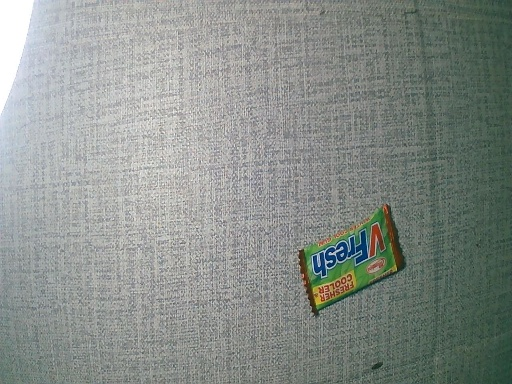plastic: (298, 203, 409, 310)
